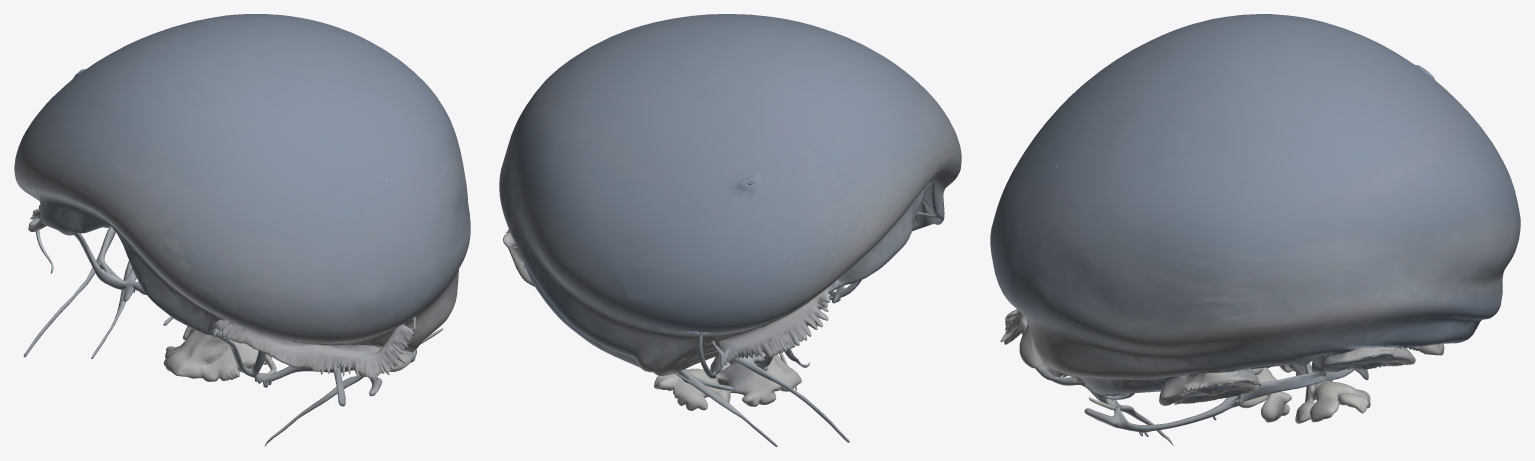
The model's file is jelly.glb.
3 views of the same model, side by side, from view 1: azimuth 30°, elevation 25°; view 2: azimuth 150°, elevation 25°; view 3: azimuth 270°, elevation 25° (orthographic). The views are drawn at different scales.
Parts seen in each view (by area): view 1: tripo_node_384c0a75-a405-4740-a80d-d63463b589c7; view 2: tripo_node_384c0a75-a405-4740-a80d-d63463b589c7; view 3: tripo_node_384c0a75-a405-4740-a80d-d63463b589c7.
Part boxes in pixels (<box>): tripo_node_384c0a75-a405-4740-a80d-d63463b589c7: <box>14,14,470,446</box>; tripo_node_384c0a75-a405-4740-a80d-d63463b589c7: <box>499,14,961,446</box>; tripo_node_384c0a75-a405-4740-a80d-d63463b589c7: <box>990,14,1520,446</box>.
Bounding box in the file's own units: 0.8931 × 0.8356 × 0.9801.
1 material, 1 textured.
